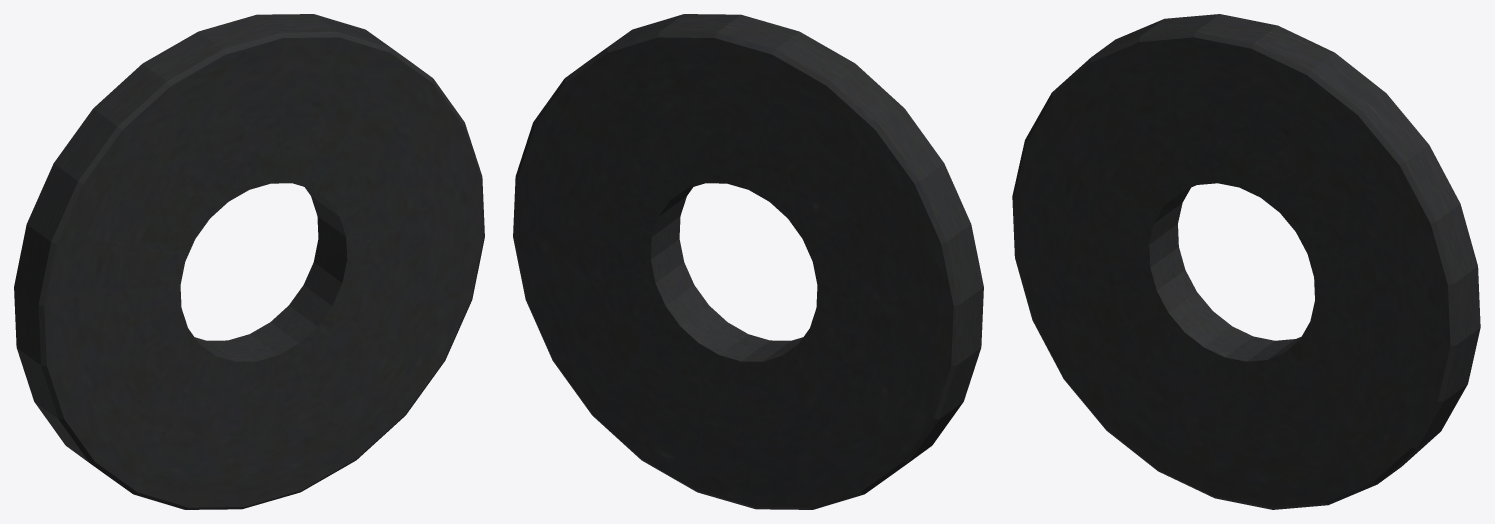
File: Washer1.dae
3 renders of one model, left to right at view 1: azimuth 30°, elevation 25°; view 2: azimuth 150°, elevation 25°; view 3: azimuth 330°, elevation 25°, orthographic.
Parts seen in each view (by area): view 1: Washer1; view 2: Washer1; view 3: Washer1.
Boxes of the visible parts, x1,y1,x2,y2 form: Washer1: [14, 14, 484, 509]; Washer1: [513, 14, 983, 509]; Washer1: [1012, 14, 1480, 509].
Size of the model in its own units: 0.0154 by 0.00172 by 0.0154.
1 material, 1 textured.
